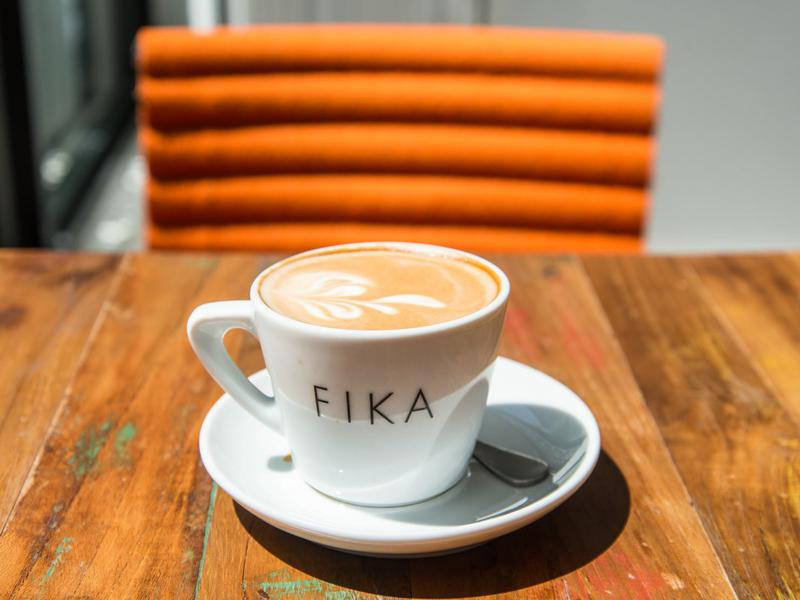cup: (182, 241, 634, 572)
